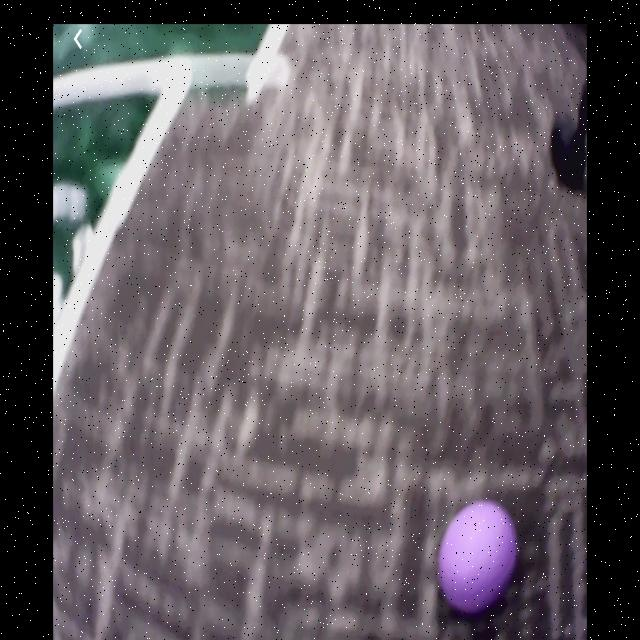ball: (442, 502, 518, 610)
